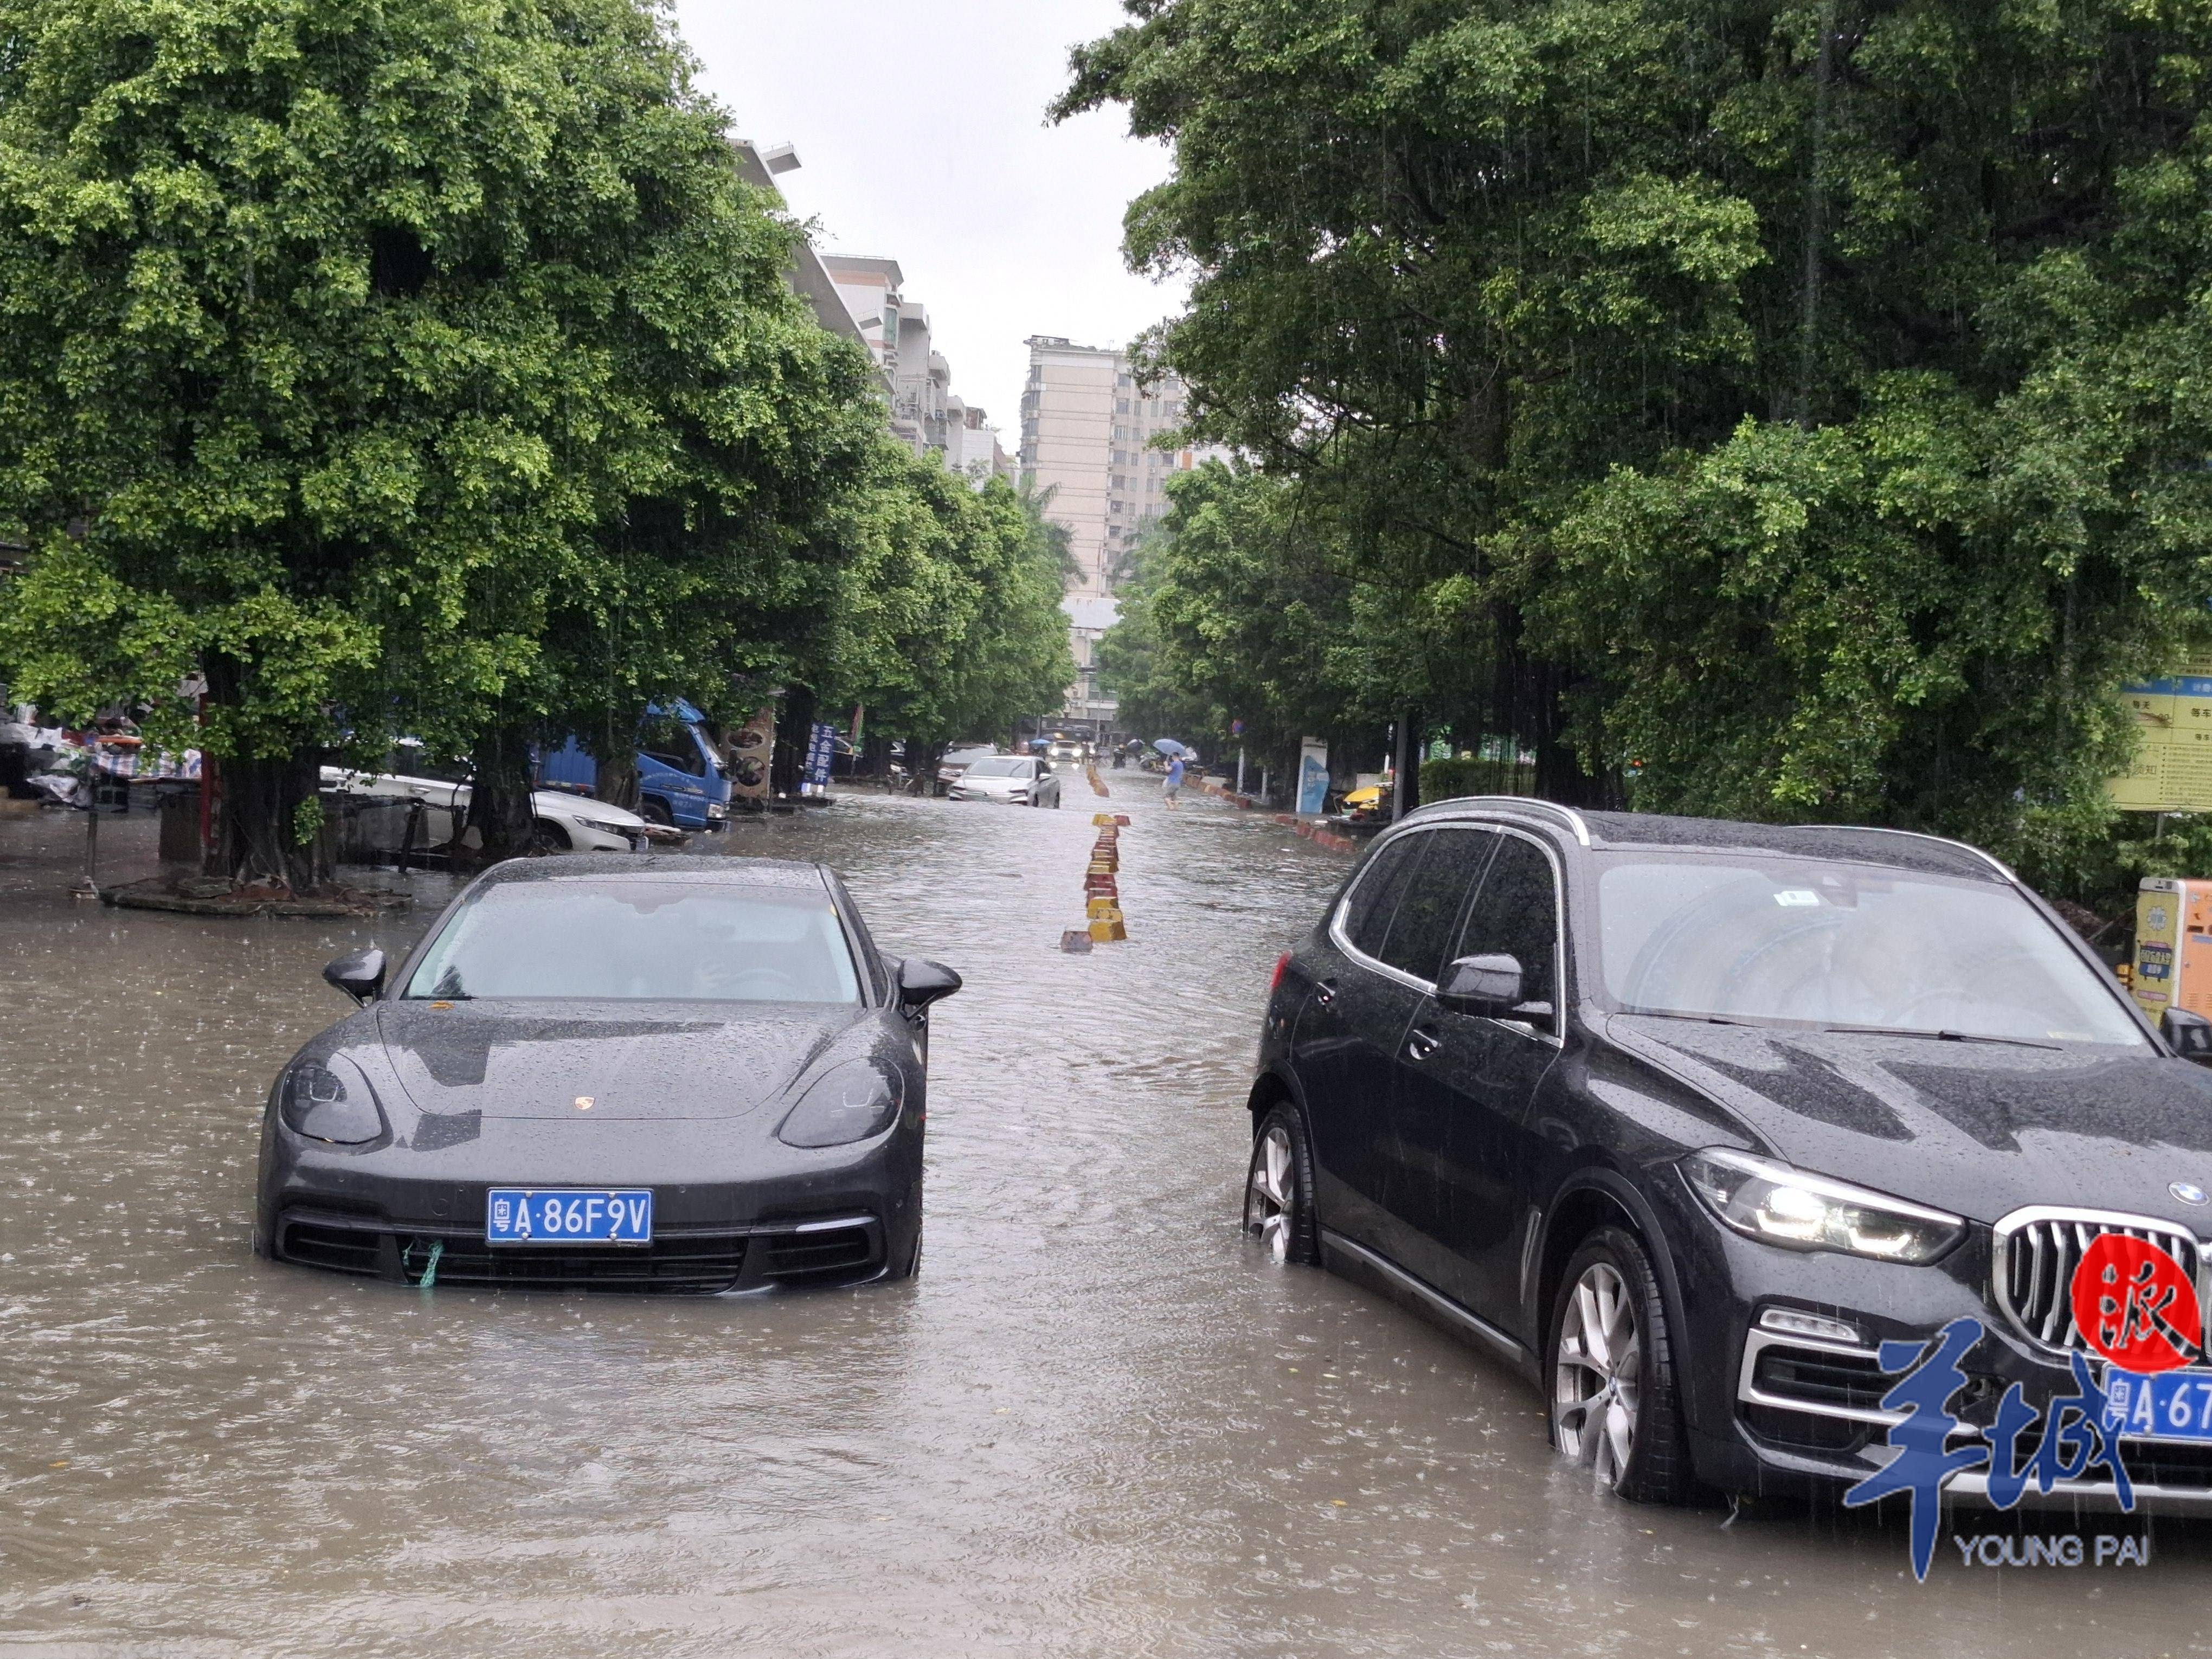puddle: (7, 1270, 1540, 1659), (871, 904, 1348, 1659), (2, 911, 303, 1659)
